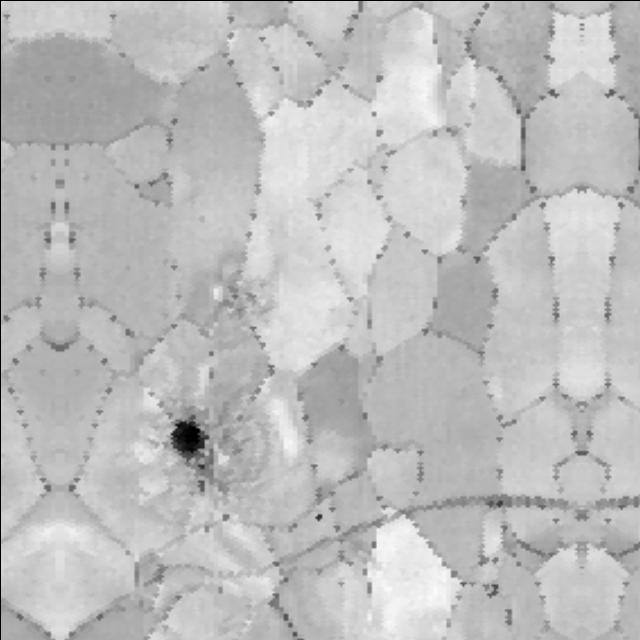good_void: (141, 392, 215, 481), (210, 263, 272, 324), (494, 601, 523, 633), (476, 578, 502, 601), (310, 508, 327, 524), (598, 514, 617, 528), (544, 514, 562, 528), (334, 577, 346, 589)
